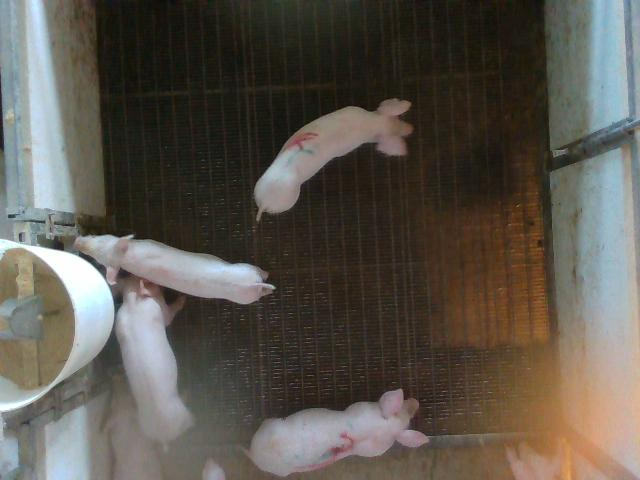pig-3: (249, 389, 429, 476)
pig-4: (255, 99, 414, 221)
